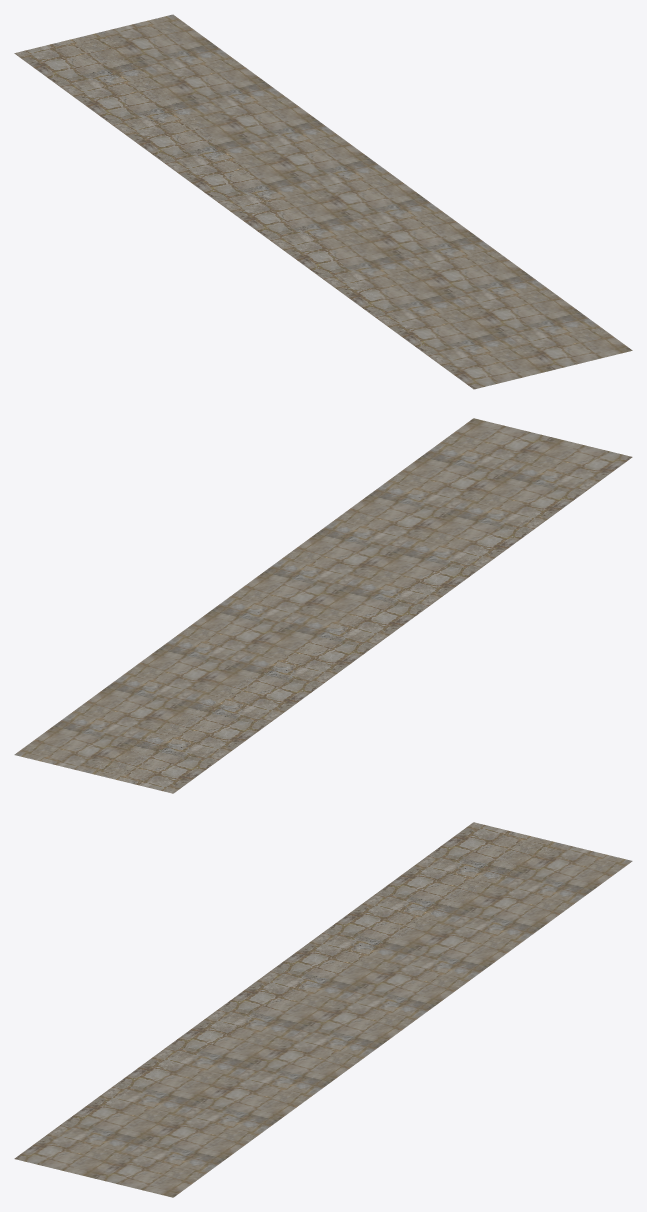
Rendered from CenterPlane.fbx.
The picture shows the model from 3 angles, top to bottom: view 1: azimuth 30°, elevation 25°; view 2: azimuth 150°, elevation 25°; view 3: azimuth 330°, elevation 25°; orthographic projection.
Parts seen in each view (by area): view 1: LV_Campagna_Flowerbed21_SM_LOK; view 2: LV_Campagna_Flowerbed21_SM_LOK; view 3: LV_Campagna_Flowerbed21_SM_LOK.
Boxes of the visible parts, box(x1,y1,x2,y2) form: LV_Campagna_Flowerbed21_SM_LOK: box(14, 14, 632, 389); LV_Campagna_Flowerbed21_SM_LOK: box(14, 418, 632, 793); LV_Campagna_Flowerbed21_SM_LOK: box(14, 822, 632, 1197).
Bounding box in the file's own units: 1.12 × 1.59e-15 × 5.6.
Materials: 1 (1 with a texture image).
